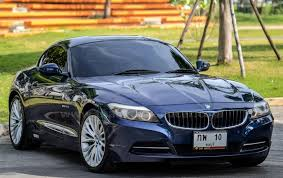sedan: (7, 35, 273, 173)
